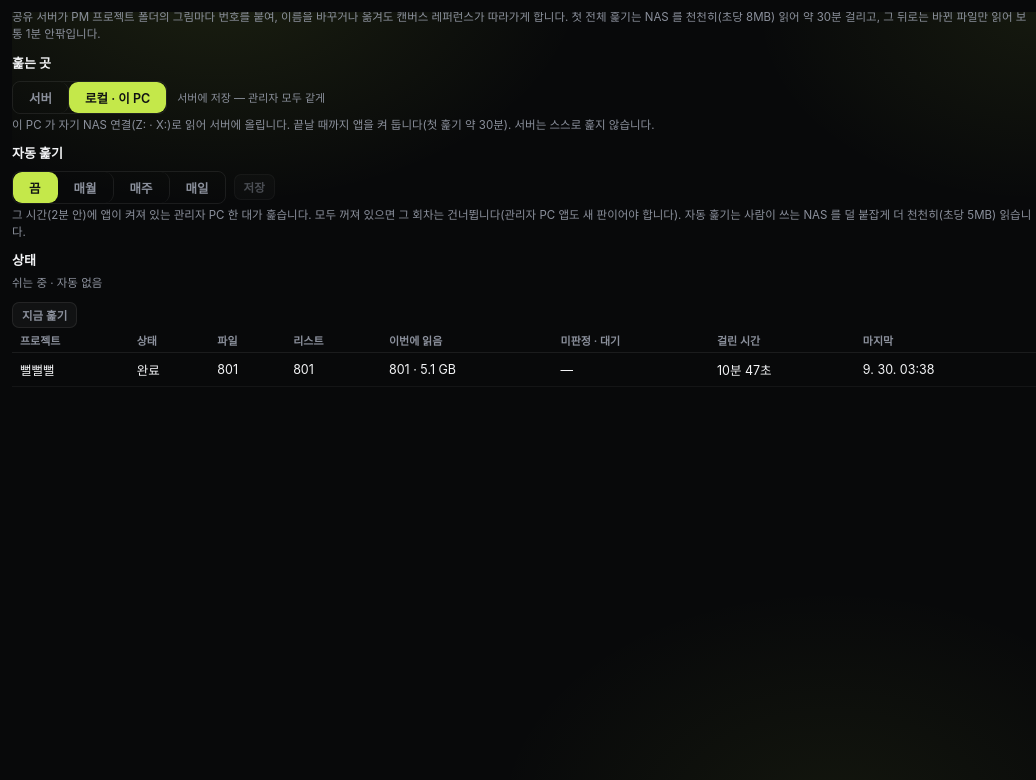
자동 훑기는 끔·매월·매주·매일 순서이고, 고른 날·오전오후·시를 저장한다
Expected: the button "저장" is disabled, [234,174,275,200]
Click the button "매주" at (142, 187), box [114,172,170,203]
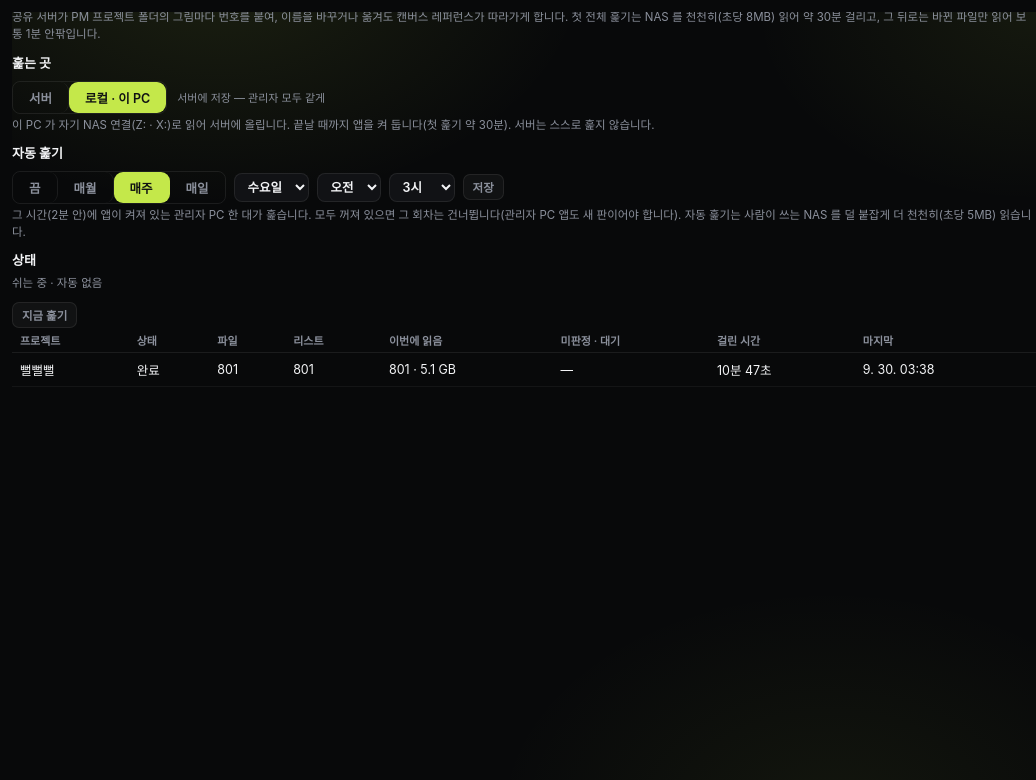
Select "수요일" in the dropdown named "요일" at (271, 187), box [234,173,309,202]
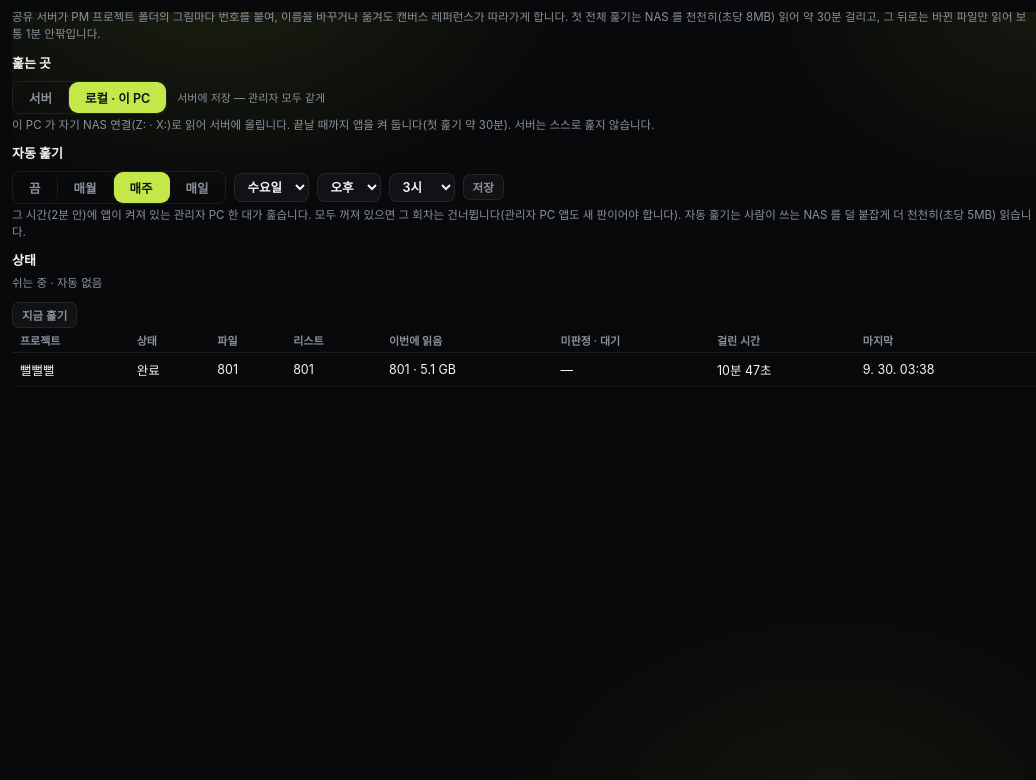
Select "오후" in the dropdown named "오전 오후" at (349, 187), box [317,173,381,202]
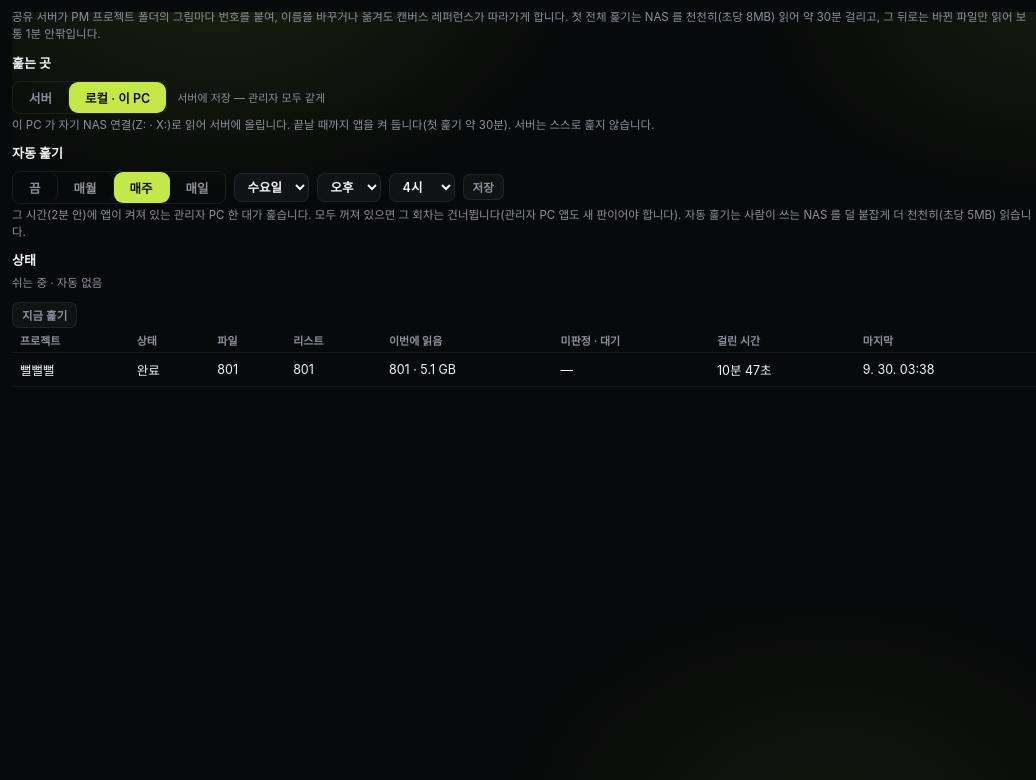
Select "4시" in the dropdown named "시" at (422, 187), box [389,173,455,202]
Click the button "저장" at (483, 187), box [463,174,504,200]
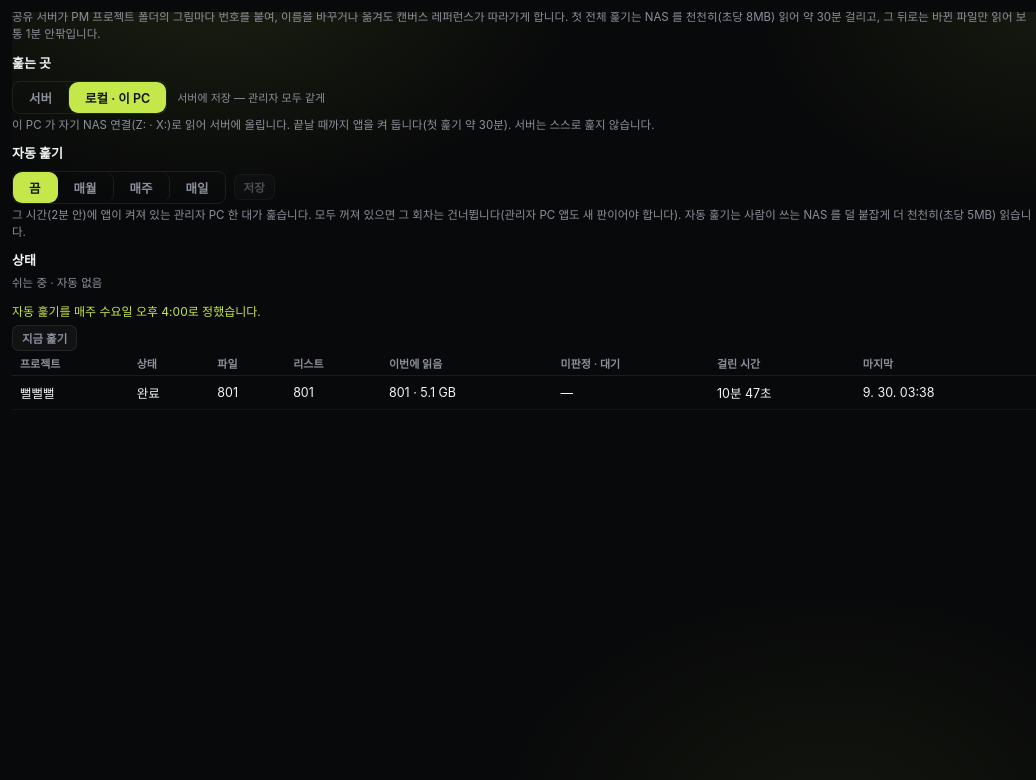
Now the text "매주 수요일 오후 4:00" is shown, box [12,304,261,318]
